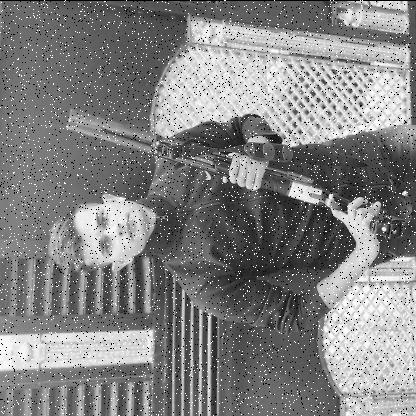rifle: (64, 105, 412, 242)
